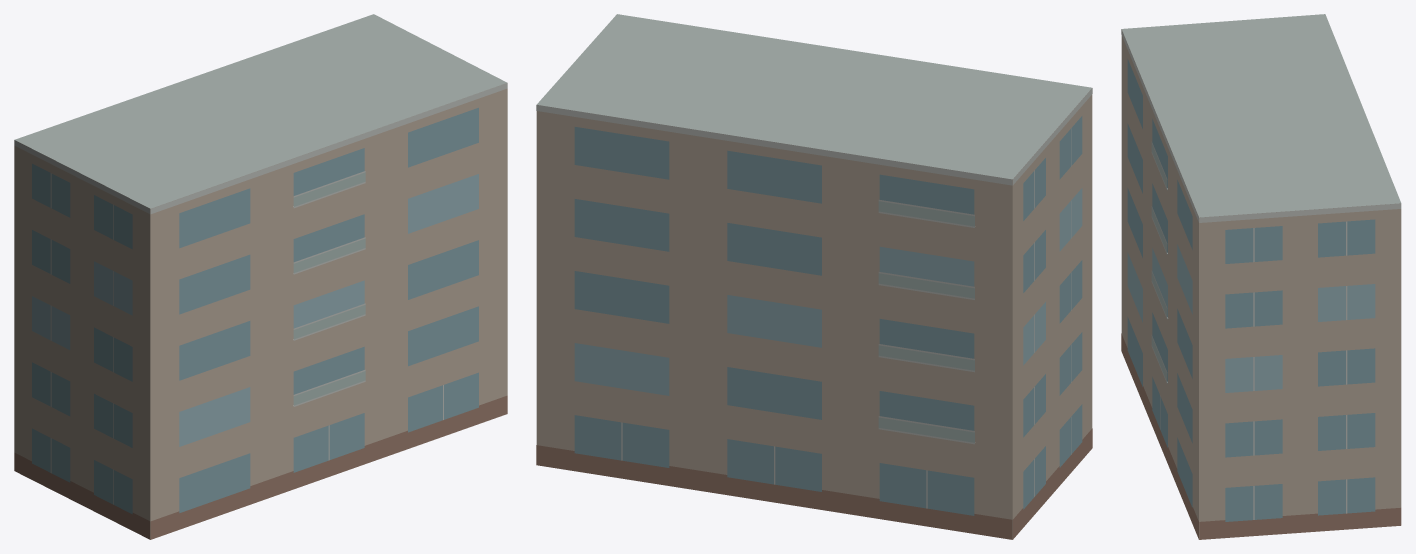
File: survey-upis-32701798.glb
3 views of the same model, side by side, from view 1: azimuth 30°, elevation 25°; view 2: azimuth 150°, elevation 25°; view 3: azimuth 270°, elevation 25° (orthographic). The views are drawn at different scales.
Parts seen in each view (by area): view 1: survey-upis-32701798.tmp; view 2: survey-upis-32701798.tmp; view 3: survey-upis-32701798.tmp.
Boxes of the visible parts, x1,y1,x2,y2 form: survey-upis-32701798.tmp: [14, 14, 507, 539]; survey-upis-32701798.tmp: [536, 14, 1092, 539]; survey-upis-32701798.tmp: [1121, 14, 1401, 539].
Size of the model in its own units: 19.23 by 14.2 by 11.18.
